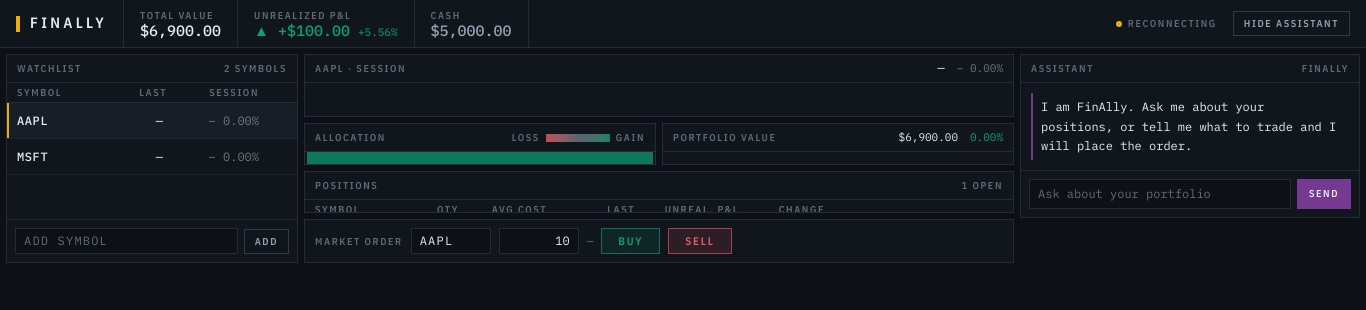
Workstation › does not re-read anything after a conversation-only turn
This screenshot has width=1366, height=310.
Check: the button with test id "watchlist-row-AAPL" is shown, box [7,103,297,139]
Type "How am I doing" into the field with test id "chat-input" at [1160, 194], box [1029,178,1291,208]
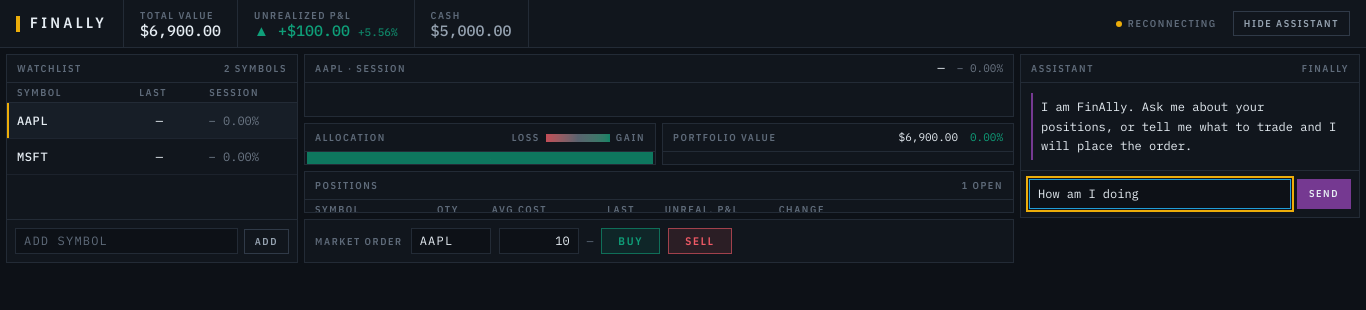
Click the button with test id "chat-send" at [1324, 194], box [1297,178,1351,208]
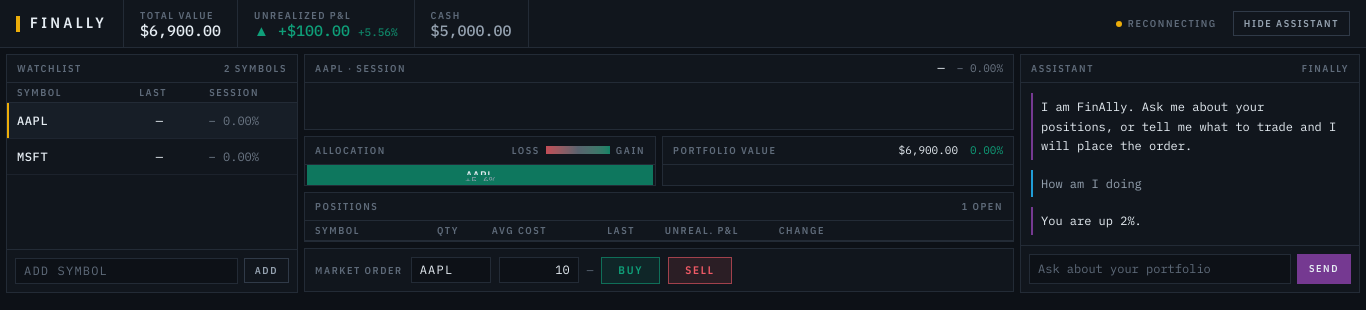
Check: the element with test id "chat-message-assistant" reads "You are up 2%.", box [1041,213,1142,228]
